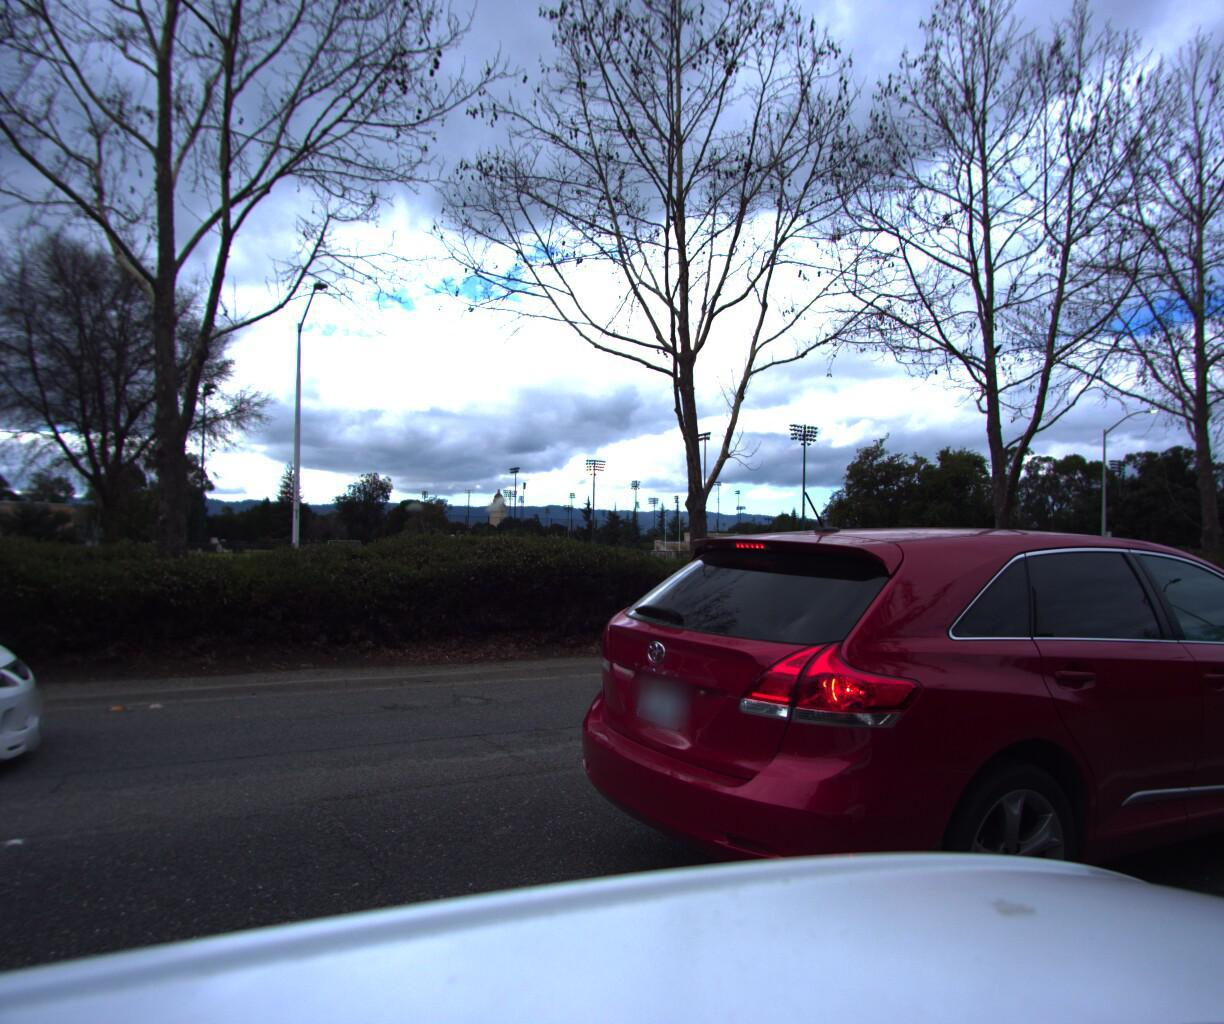car: (518, 497, 1224, 1024), (0, 450, 75, 919)
